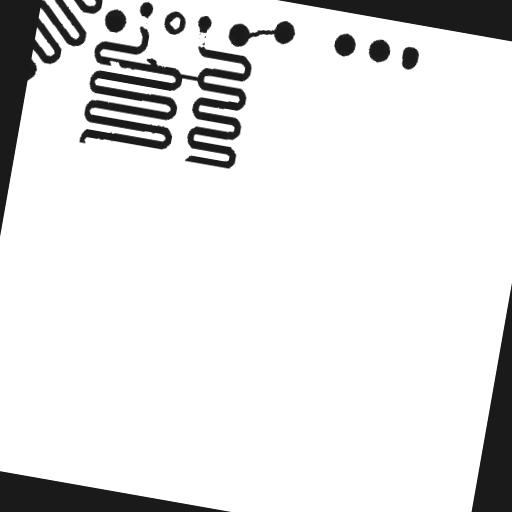copper: (391, 36, 428, 78)
mousebite: (100, 51, 130, 76)
open: (178, 20, 218, 56), (124, 6, 159, 38)
pin-hole: (160, 7, 189, 38)
short: (232, 16, 287, 52), (168, 64, 210, 89)
spur: (136, 48, 168, 78)
